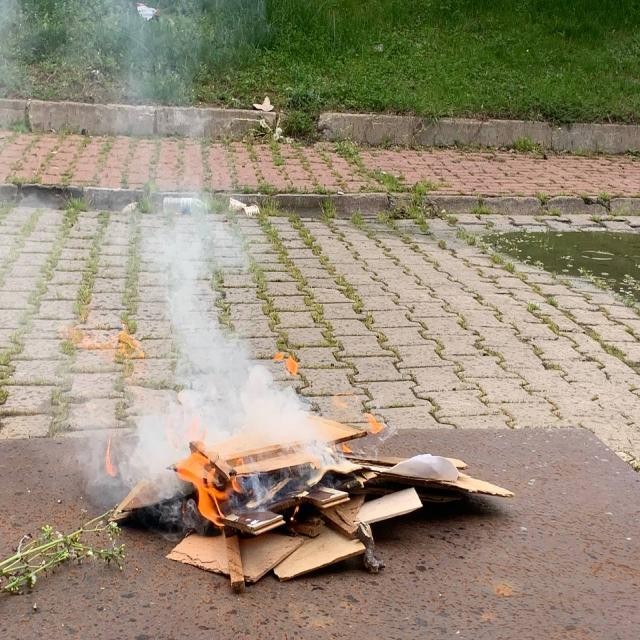fire: (266, 333, 402, 456), (175, 442, 254, 536), (62, 319, 146, 377), (100, 436, 120, 489)
